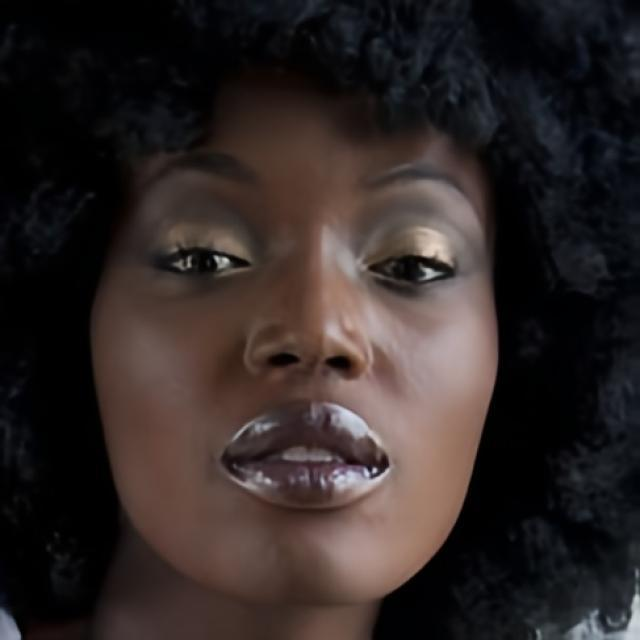surprise: (92, 51, 507, 602)
